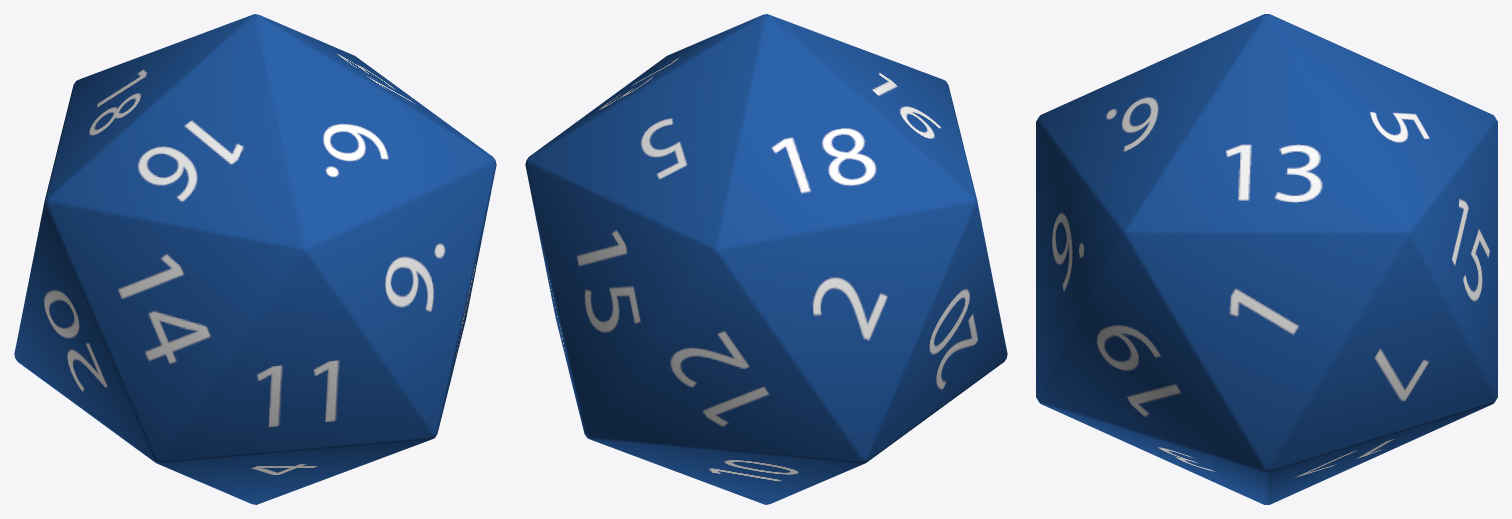
File: twentyFacesDice.glb
The picture shows the model from 3 angles, left to right: view 1: azimuth 30°, elevation 25°; view 2: azimuth 150°, elevation 25°; view 3: azimuth 270°, elevation 25°; orthographic projection.
Visible parts, largest first — view 1: d20; view 2: d20; view 3: d20.
Boxes of the visible parts, box(x1,y1,x2,y2) form: d20: box(14, 14, 496, 504); d20: box(525, 14, 1007, 504); d20: box(1036, 14, 1497, 504).
Bounding box in the file's own units: 8.65 × 9.59 × 8.23.
Materials: 1 (1 with a texture image).
